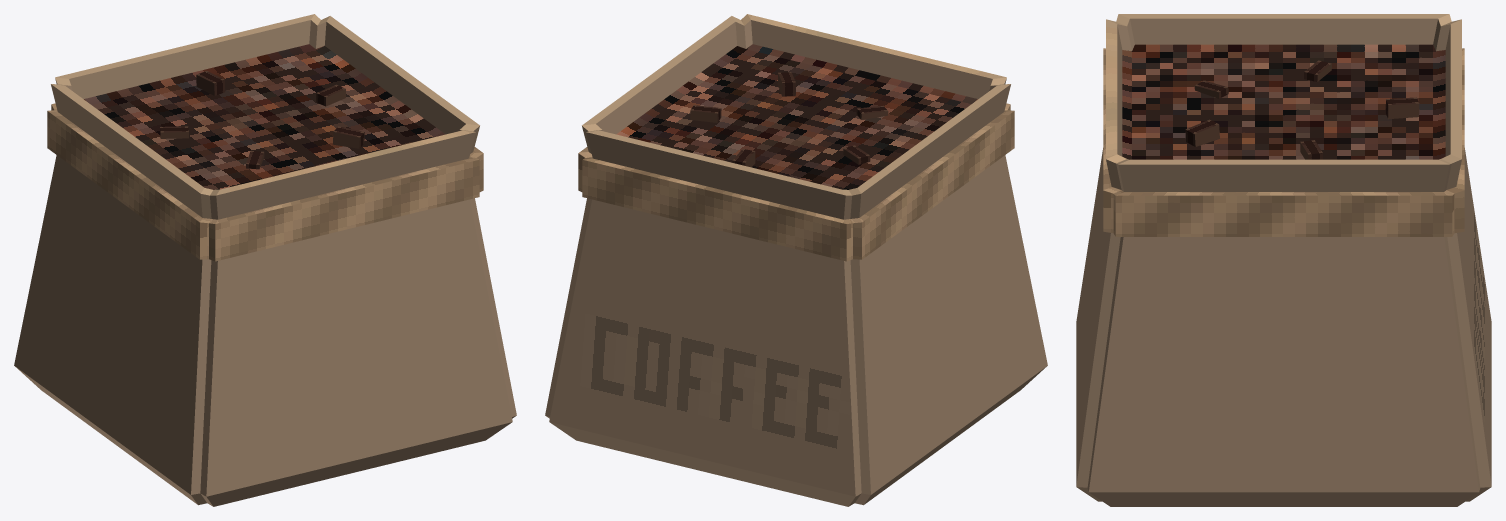
File: Coffee_Beans.fbx
3 views of the same model, side by side, from view 1: azimuth 30°, elevation 25°; view 2: azimuth 150°, elevation 25°; view 3: azimuth 270°, elevation 25° (orthographic). The views are drawn at different scales.
Parts seen in each view (by area): view 1: coffeeholder; view 2: coffeeholder; view 3: coffeeholder.
Boxes of the visible parts, x1=… form: coffeeholder: x1=14, y1=14, x2=516, y2=506; coffeeholder: x1=545, y1=14, x2=1047, y2=506; coffeeholder: x1=1076, y1=14, x2=1491, y2=506.
Size of the model in its own units: 195 by 176 by 195.
1 material, 1 textured.
